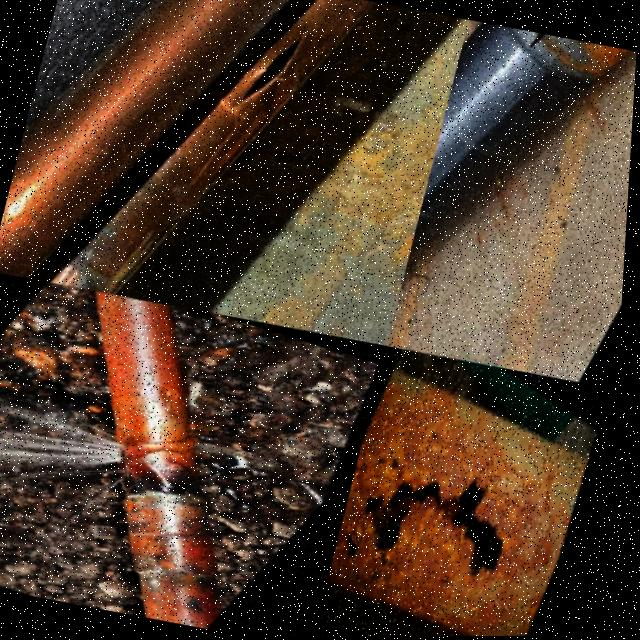hole: (353, 460, 433, 562), (461, 509, 528, 595), (444, 469, 499, 546), (343, 530, 376, 570), (345, 501, 363, 542), (354, 464, 368, 500), (393, 455, 410, 473)
rupture: (236, 21, 322, 127), (124, 442, 148, 478)
